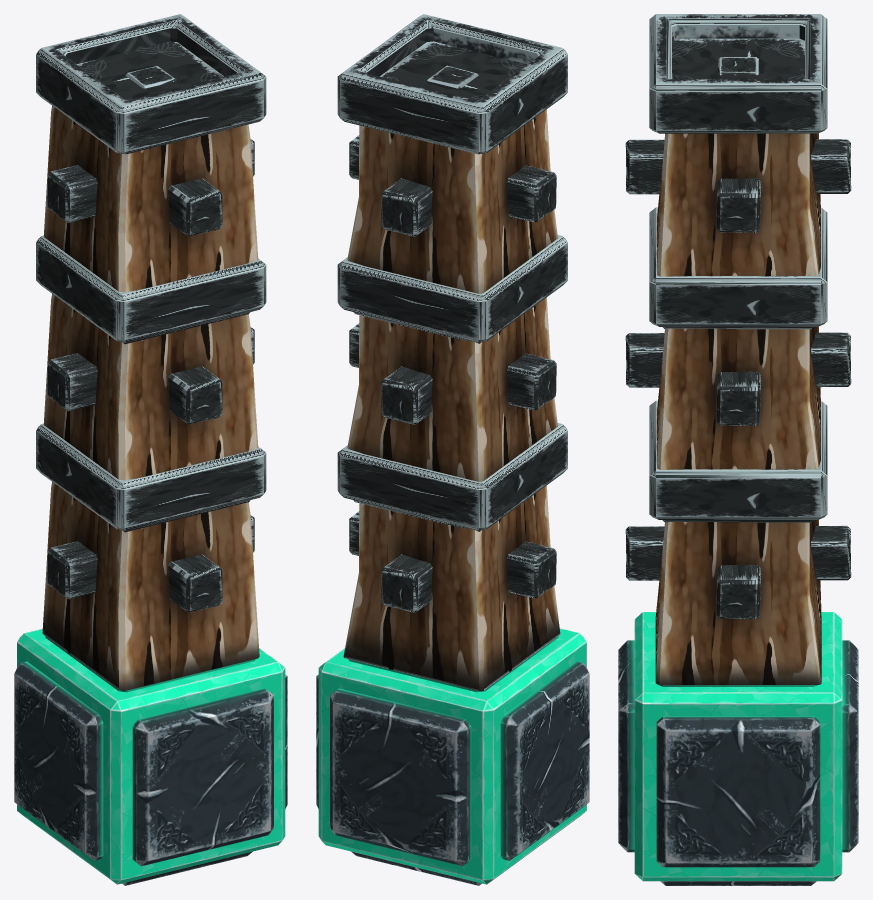
The model's file is step_004.glb.
The picture shows the model from 3 angles, left to right: view 1: azimuth 30°, elevation 25°; view 2: azimuth 150°, elevation 25°; view 3: azimuth 270°, elevation 25°; orthographic projection. The views are drawn at different scales.
Visible parts, largest first — view 1: SingleWoodenBlock_186f9118-42b0-494d-a2d4-c021c50a7df1, StartingBlock_ccf1e34d-e662-4fa0-89a8-9f76f068f0d4; view 2: SingleWoodenBlock_186f9118-42b0-494d-a2d4-c021c50a7df1, StartingBlock_ccf1e34d-e662-4fa0-89a8-9f76f068f0d4; view 3: SingleWoodenBlock_186f9118-42b0-494d-a2d4-c021c50a7df1, StartingBlock_ccf1e34d-e662-4fa0-89a8-9f76f068f0d4.
Boxes of the visible parts, x1=… form: SingleWoodenBlock_186f9118-42b0-494d-a2d4-c021c50a7df1: x1=36, y1=14, x2=266, y2=690; StartingBlock_ccf1e34d-e662-4fa0-89a8-9f76f068f0d4: x1=14, y1=628, x2=287, y2=885; SingleWoodenBlock_186f9118-42b0-494d-a2d4-c021c50a7df1: x1=337, y1=14, x2=567, y2=690; StartingBlock_ccf1e34d-e662-4fa0-89a8-9f76f068f0d4: x1=316, y1=628, x2=589, y2=885; SingleWoodenBlock_186f9118-42b0-494d-a2d4-c021c50a7df1: x1=625, y1=14, x2=851, y2=684; StartingBlock_ccf1e34d-e662-4fa0-89a8-9f76f068f0d4: x1=618, y1=612, x2=858, y2=885.
Bounding box in the file's own units: 1.13 × 4.17 × 1.13.
2 materials, 2 textured.
